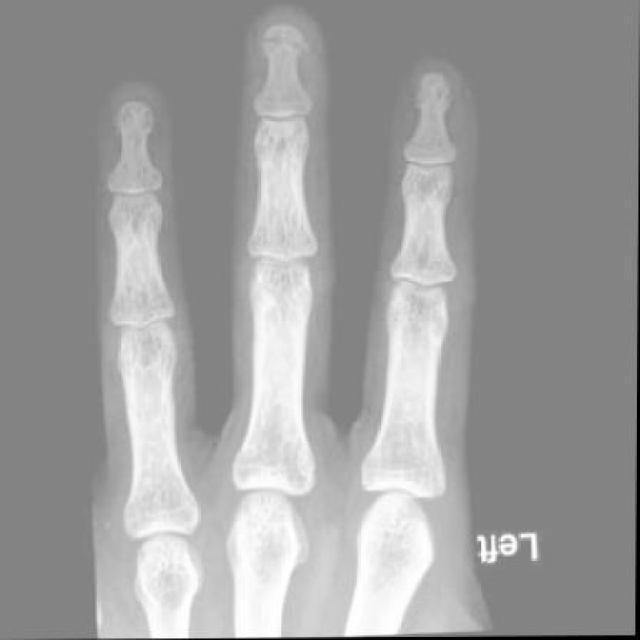Fracture: (253, 19, 304, 61)
